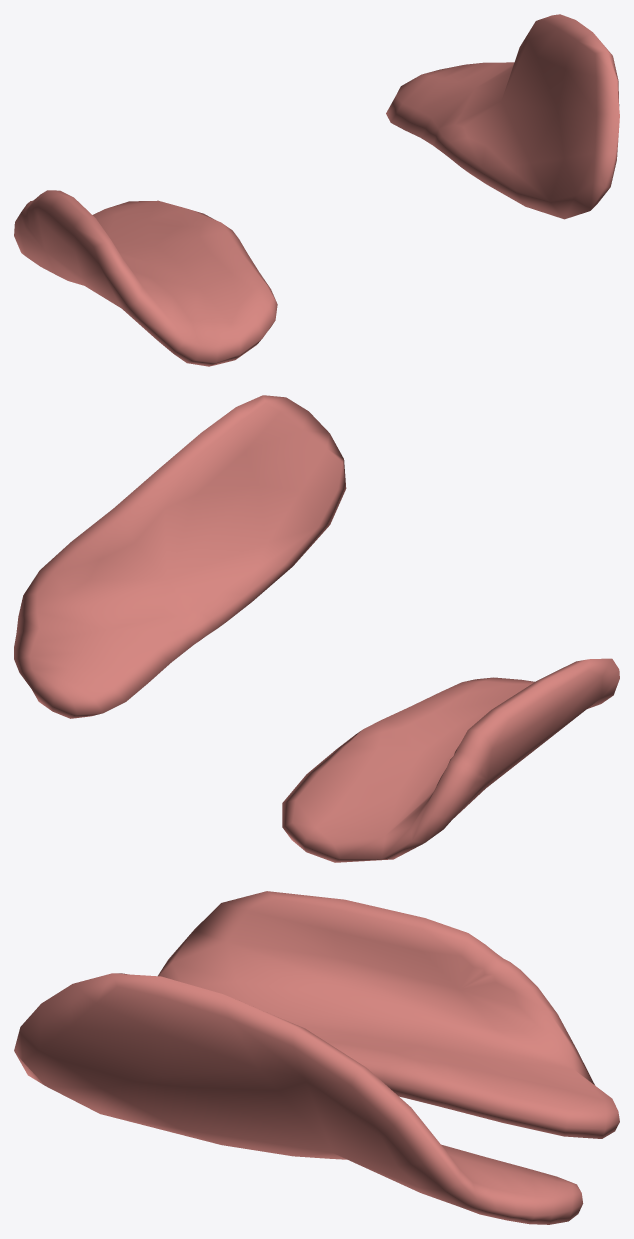
3 renders of one model, top to bottom at view 1: azimuth 30°, elevation 25°; view 2: azimuth 150°, elevation 25°; view 3: azimuth 270°, elevation 25°, orthographic. The views are drawn at different scales.
Visible parts, largest first — view 1: ZA_566ce32a731b1477; view 2: ZA_566ce32a731b1477; view 3: ZA_566ce32a731b1477.
Boxes of the visible parts, x1,y1,x2,y2 form: ZA_566ce32a731b1477: [14, 14, 619, 366]; ZA_566ce32a731b1477: [14, 395, 619, 862]; ZA_566ce32a731b1477: [14, 891, 619, 1224].
Bounding box in the file's own units: 0.00808 × 0.00398 × 0.00692.
